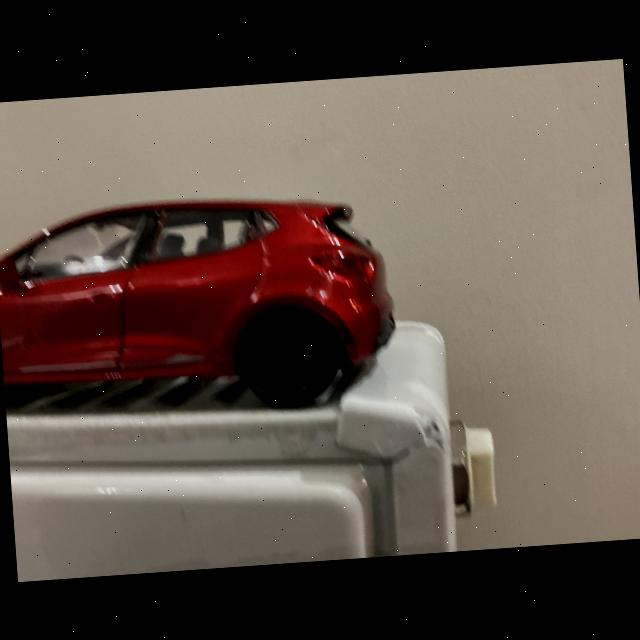Dogru_Jant: (244, 316, 331, 401)
